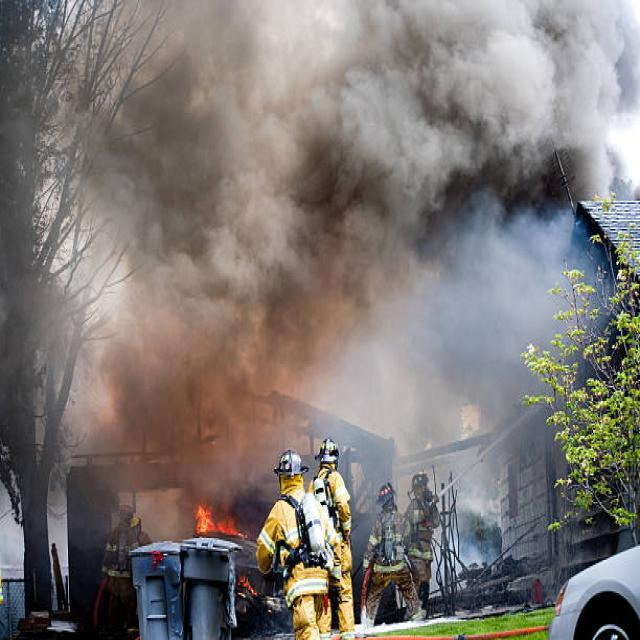Fire: (193, 500, 243, 538)
Smoke: (117, 2, 278, 470), (271, 185, 558, 424), (302, 0, 640, 190)
